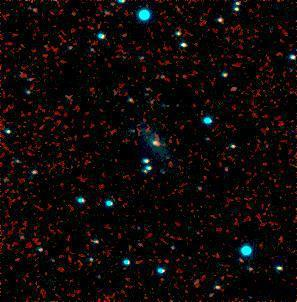star: (27, 158, 57, 188)
